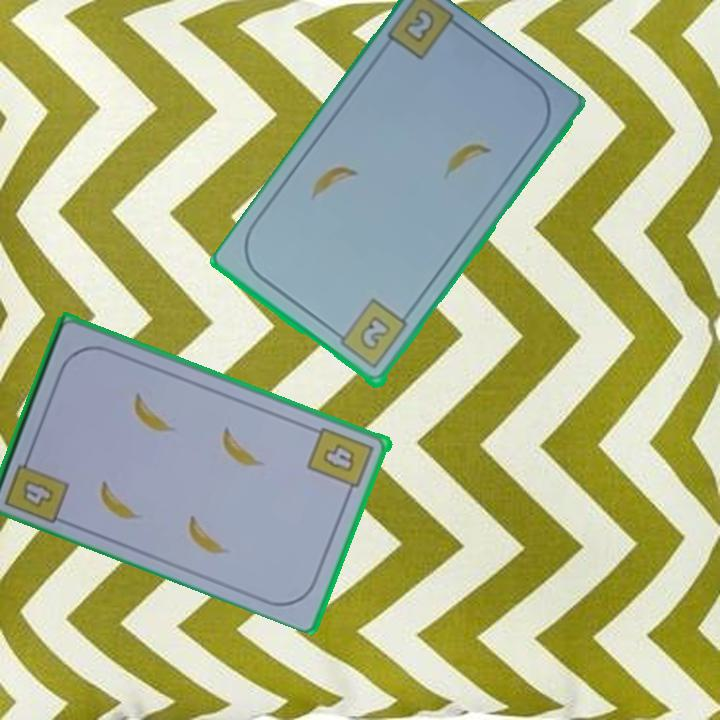2b: (330, 296, 411, 373), (400, 5, 438, 47)
4b: (305, 423, 378, 499), (19, 475, 58, 511)
